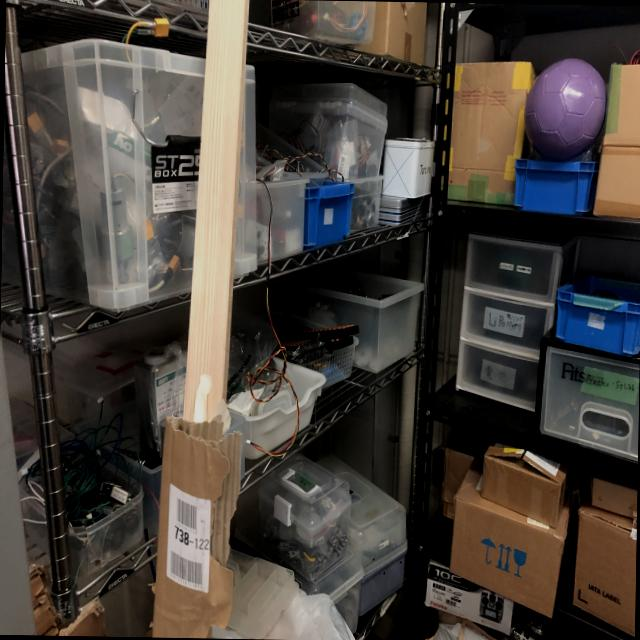purple_ball: (525, 57, 609, 155)
